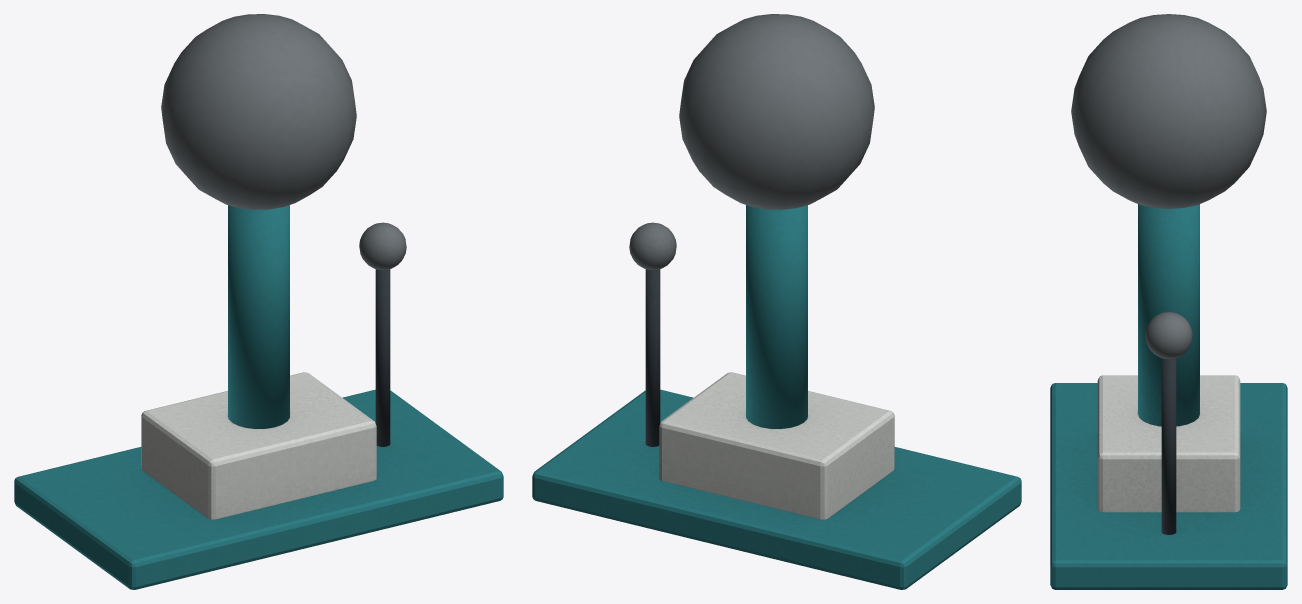
The picture shows the model from 3 angles, left to right: view 1: azimuth 30°, elevation 25°; view 2: azimuth 150°, elevation 25°; view 3: azimuth 270°, elevation 25°; orthographic projection.
Size of the model in its own units: 1.45 by 1.78 by 0.8.
1 material, 1 textured.
